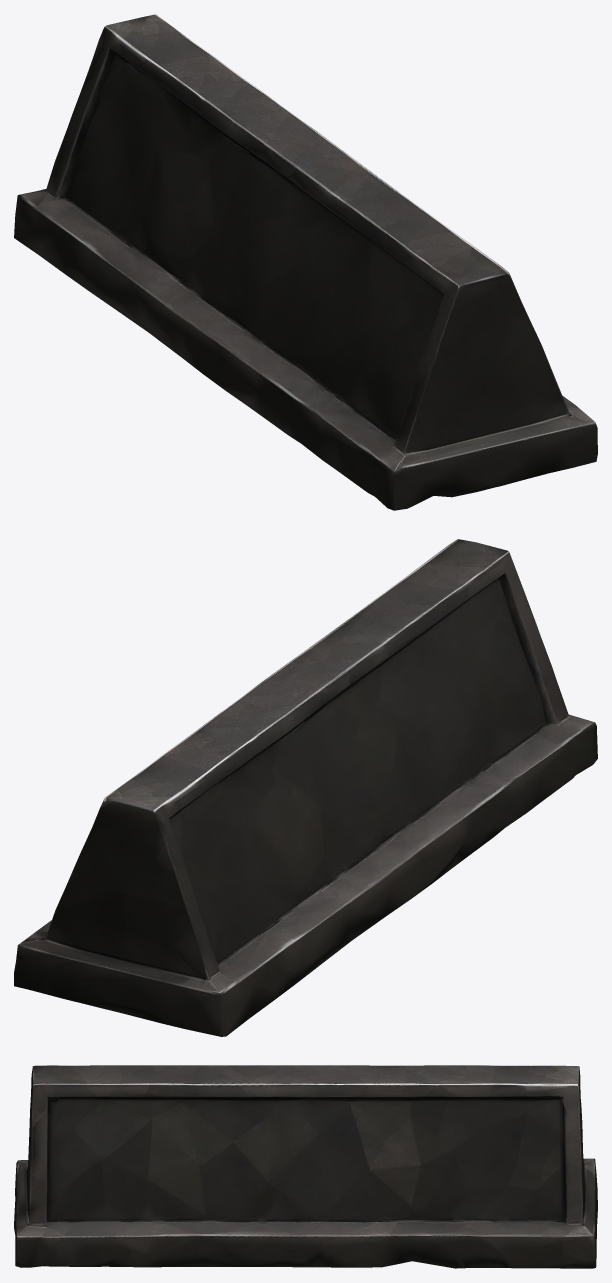
File: clerk_nameplate.glb
The picture shows the model from 3 angles, top to bottom: view 1: azimuth 30°, elevation 25°; view 2: azimuth 150°, elevation 25°; view 3: azimuth 270°, elevation 25°; orthographic projection. The views are drawn at different scales.
Parts seen in each view (by area): view 1: tripo_node_d4a4efa0-e2f2-4c7d-b81b-0b5a5ddc4c59; view 2: tripo_node_d4a4efa0-e2f2-4c7d-b81b-0b5a5ddc4c59; view 3: tripo_node_d4a4efa0-e2f2-4c7d-b81b-0b5a5ddc4c59.
Boxes of the visible parts, left/top/right/bottom form: tripo_node_d4a4efa0-e2f2-4c7d-b81b-0b5a5ddc4c59: left=14, top=14, right=597, bottom=510; tripo_node_d4a4efa0-e2f2-4c7d-b81b-0b5a5ddc4c59: left=14, top=539, right=597, bottom=1036; tripo_node_d4a4efa0-e2f2-4c7d-b81b-0b5a5ddc4c59: left=14, top=1065, right=597, bottom=1268.
Bounding box in the file's own units: 0.3233 × 0.293 × 1.
Materials: 1 (1 with a texture image).
